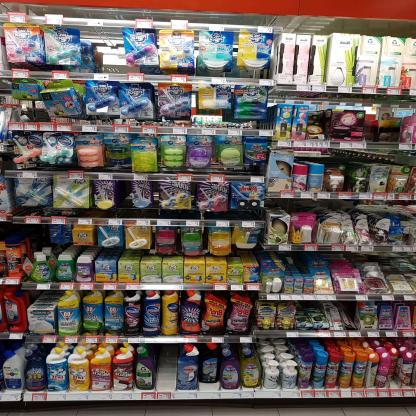empty_space: (154, 347, 176, 392)
